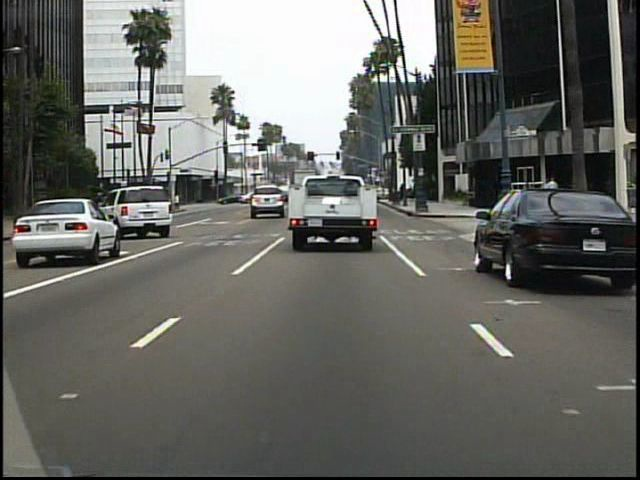person: (544, 174, 562, 213), (175, 190, 185, 213)
